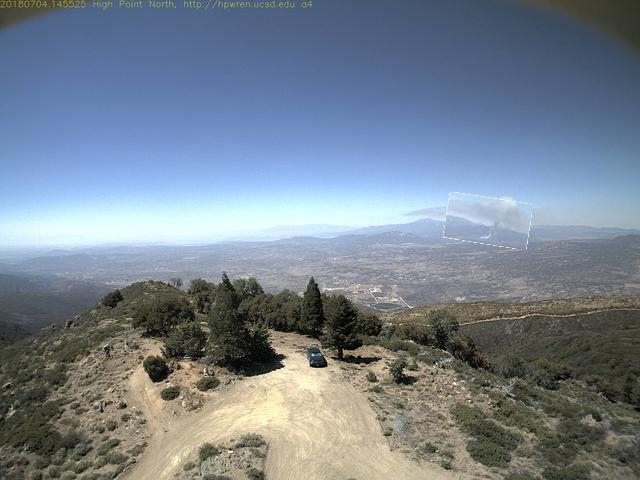smoke: (446, 196, 533, 248)
